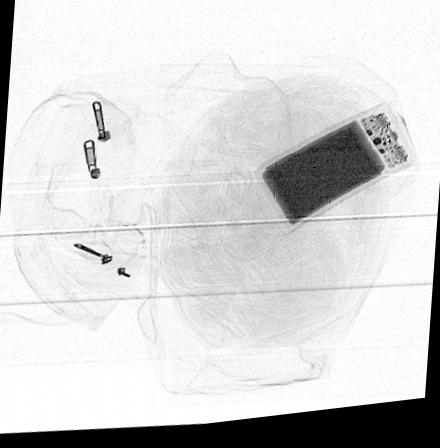Powerbank: (255, 110, 416, 240)
